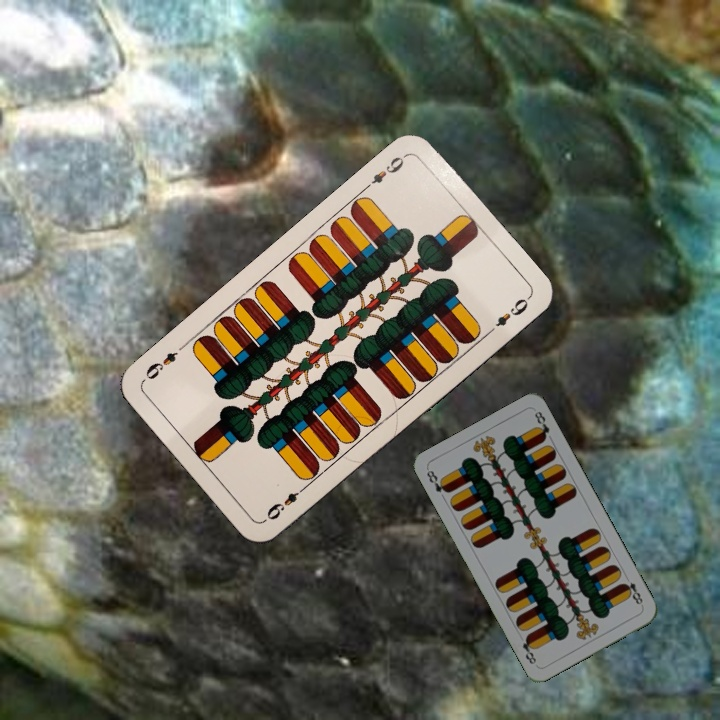E8: (618, 572, 646, 609), (422, 466, 452, 495)
E9: (360, 150, 409, 193), (261, 481, 310, 523)
